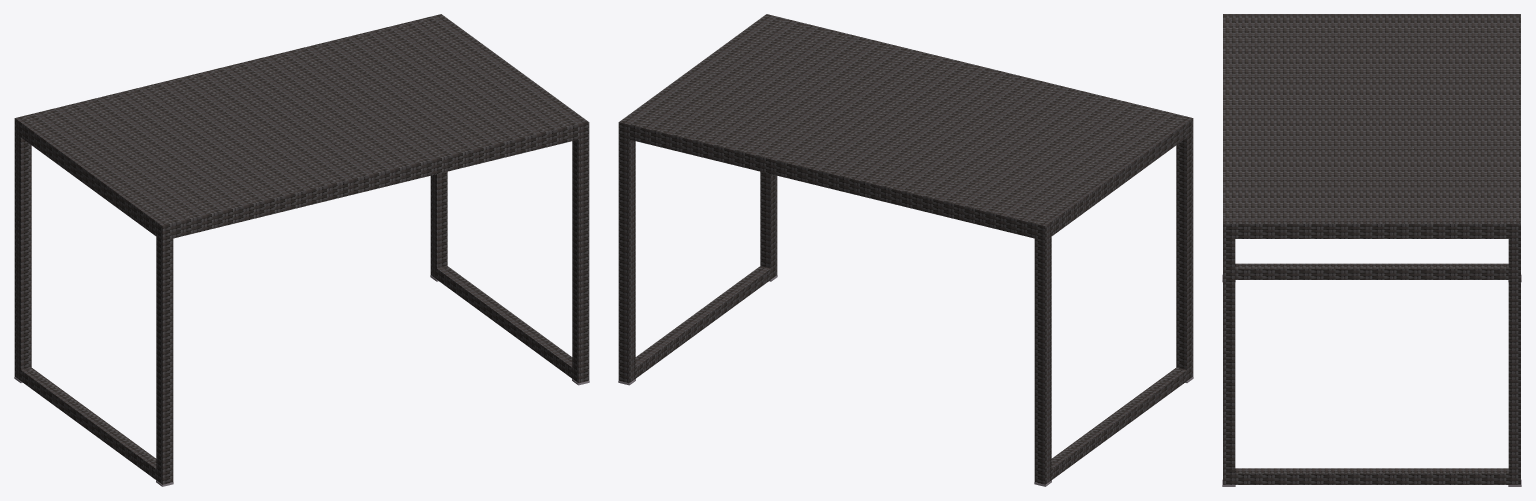
File: niwaza-simplesquaretable2_nocolor.fbx
3 views of the same model, side by side, from view 1: azimuth 30°, elevation 25°; view 2: azimuth 150°, elevation 25°; view 3: azimuth 270°, elevation 25° (orthographic).
Visible parts, largest first — view 1: niwaza-simplesquaretable; view 2: niwaza-simplesquaretable; view 3: niwaza-simplesquaretable.
Part boxes in pixels (<box>): niwaza-simplesquaretable: <box>14,14,589,486</box>; niwaza-simplesquaretable: <box>618,14,1193,486</box>; niwaza-simplesquaretable: <box>1222,14,1521,486</box>.
Bounding box in the file's own units: 120 × 70 × 72.2.
Materials: 2 (1 with a texture image).
